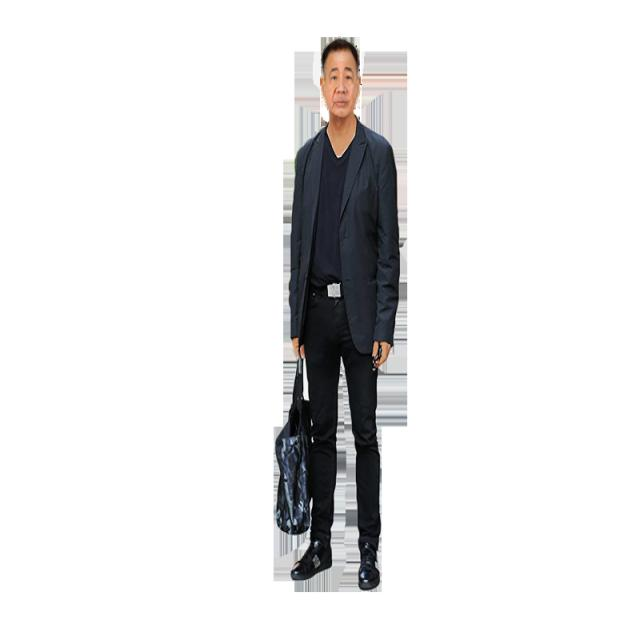jovem: (284, 34, 405, 606)
